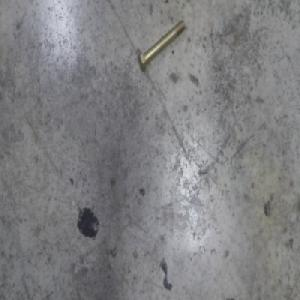Bolt: (137, 19, 187, 72)
